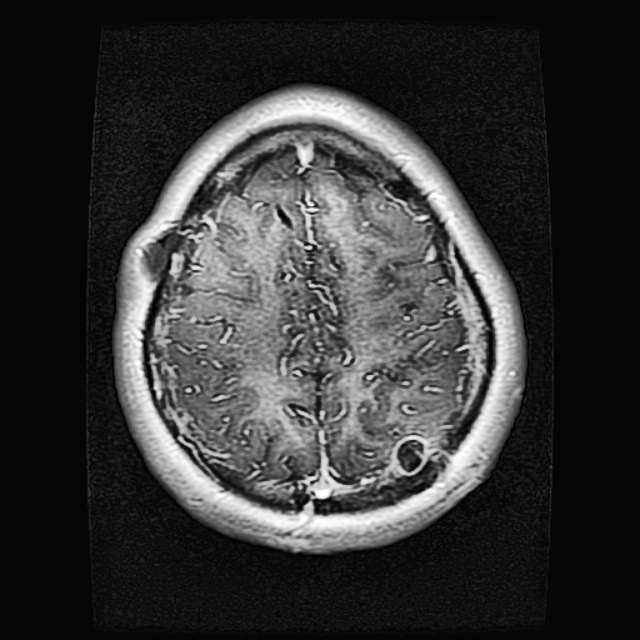Meningioma: (387, 433, 433, 475)
